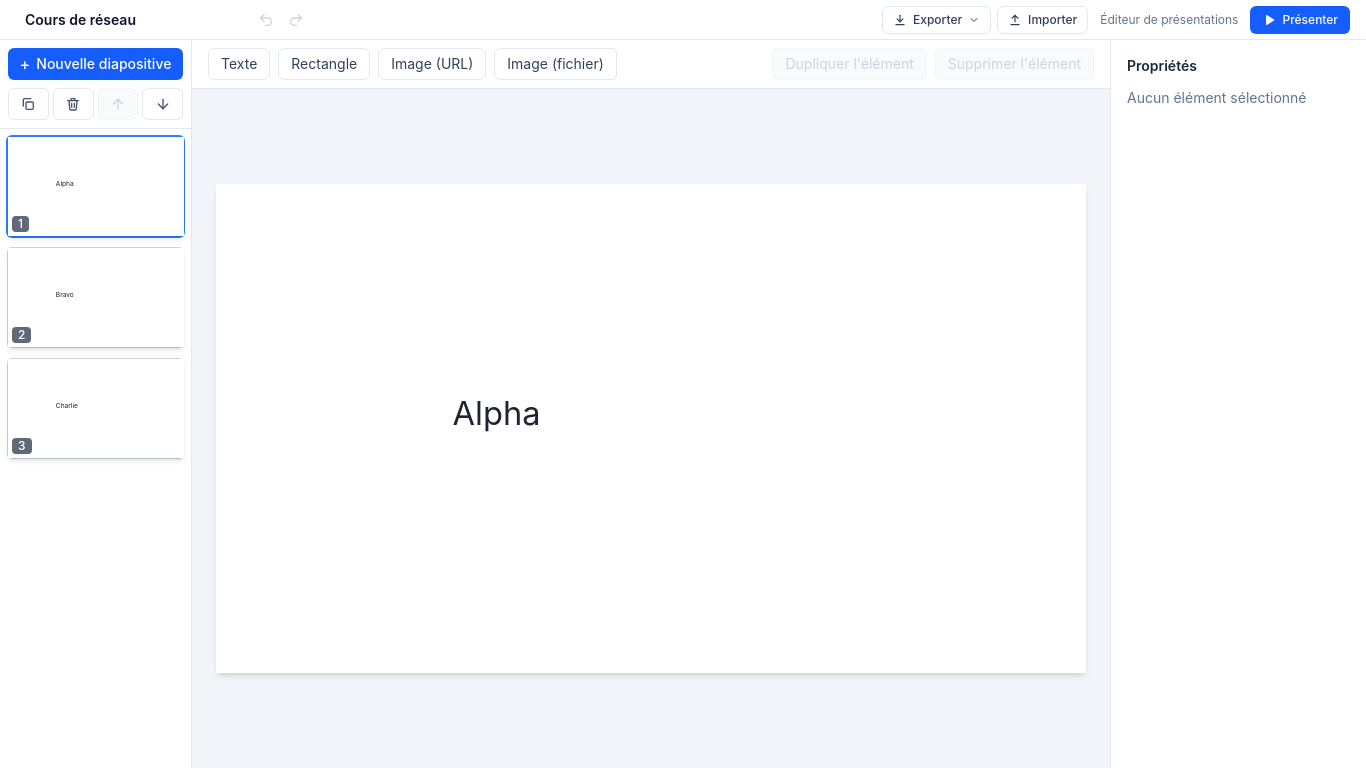
Test: EditorLayout : export PowerPoint › télécharge le Blob produit, sous le nom dérivé du titre avec l'extension .pptx
Click the button "Exporter" at (937, 20), box x1=882 y1=6 x2=991 y2=34
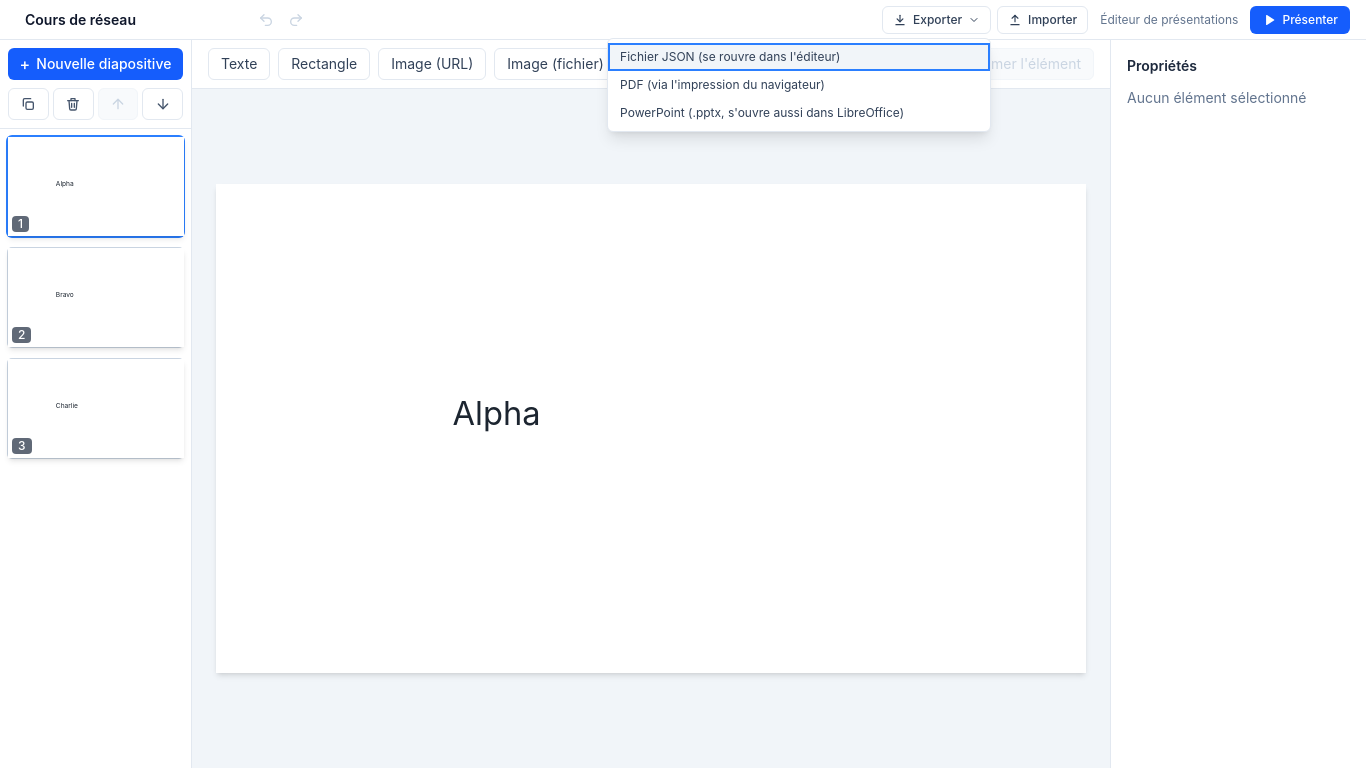
Click the menu item "PowerPoint (.pptx, s'ouvre aussi dans LibreOffice)" at (799, 112), box x1=608 y1=98 x2=990 y2=126
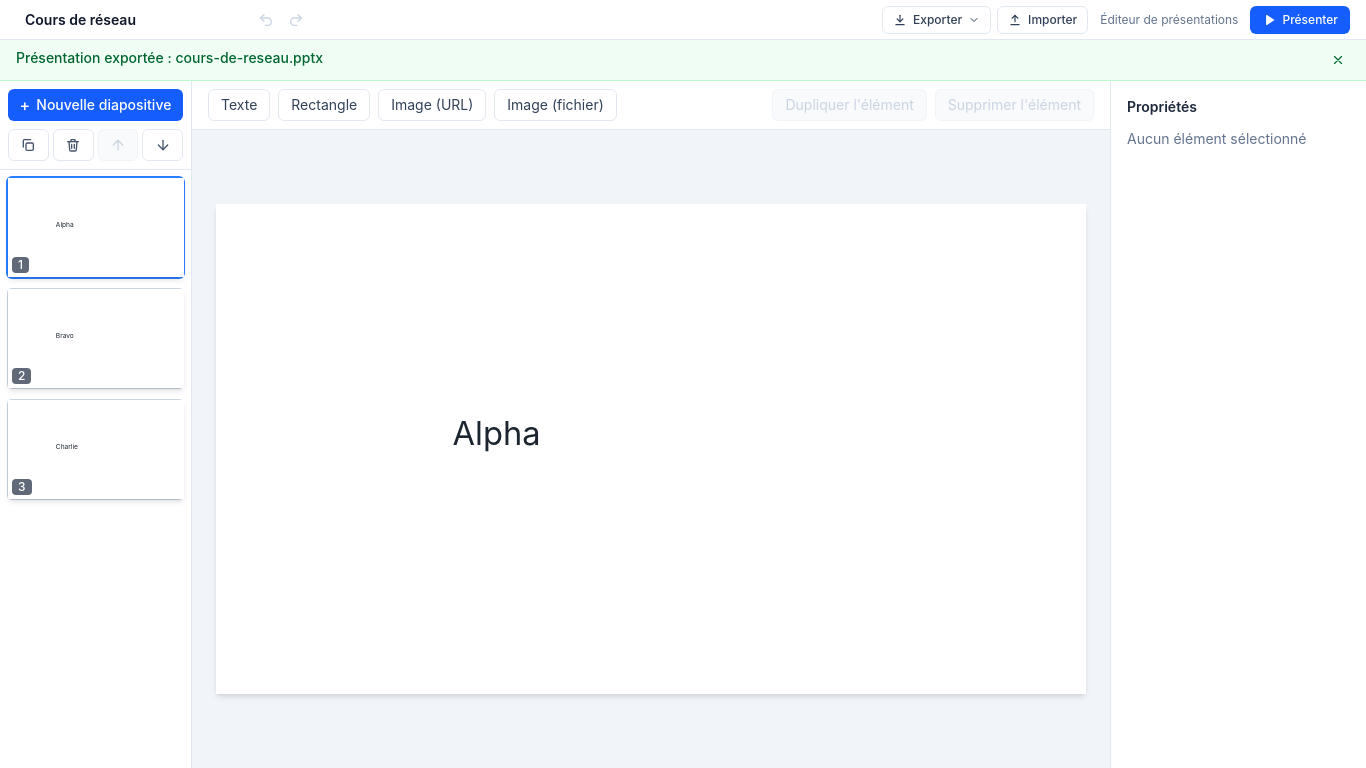
Expected: the message reads "Présentation exportée : cours-de-reseau.pptx", x1=16 y1=49 x2=323 y2=66
